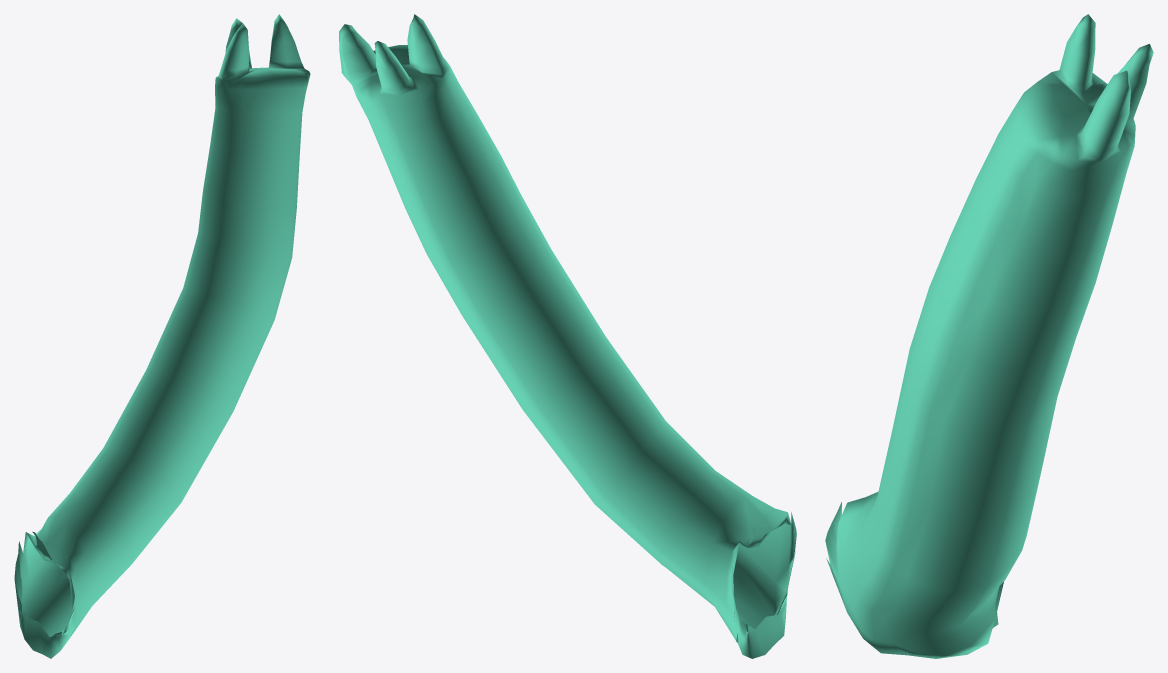
Rendered from brazoIzq.obj.
3 views of the same model, side by side, from view 1: azimuth 30°, elevation 25°; view 2: azimuth 150°, elevation 25°; view 3: azimuth 270°, elevation 25° (orthographic). The views are drawn at different scales.
Visible parts, largest first — view 1: pCylinder29; view 2: pCylinder29; view 3: pCylinder29.
Boxes of the visible parts, left/top/right/bottom form: pCylinder29: left=14, top=14, right=310, bottom=658; pCylinder29: left=339, top=14, right=796, bottom=658; pCylinder29: left=825, top=14, right=1153, bottom=658.
Size of the model in its own units: 0.5931 by 0.9367 by 0.3297.
Materials: 1 (1 with a texture image).
